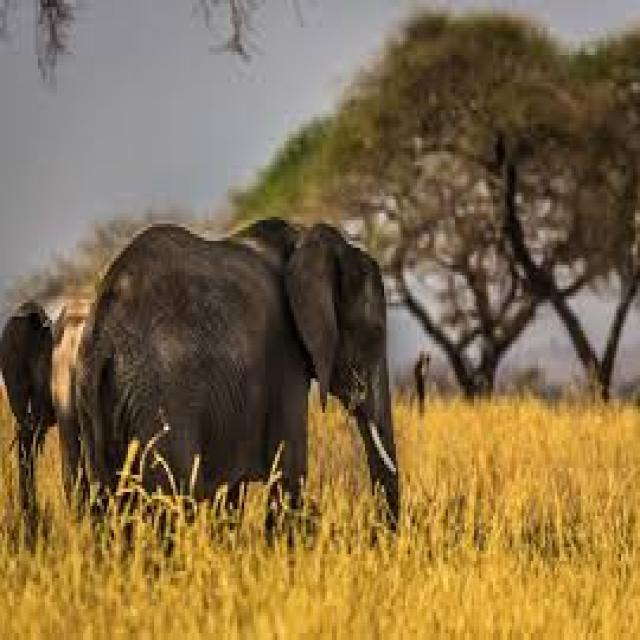Elephant: (71, 214, 398, 550)
